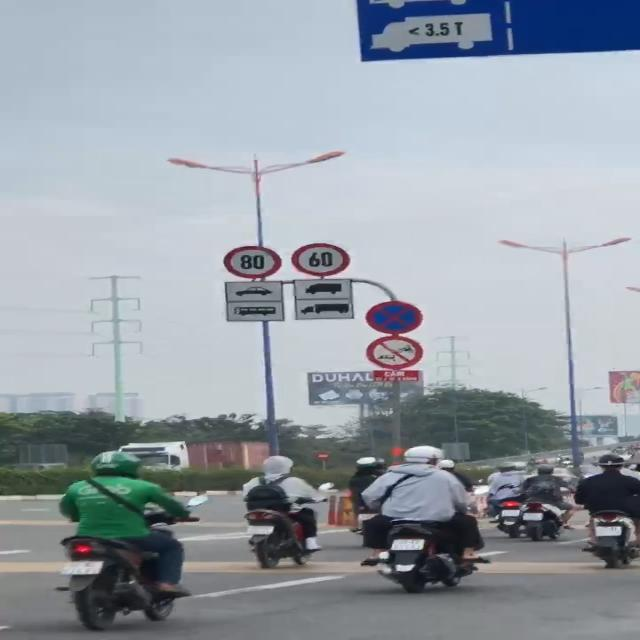Bien bao cam dung xe va do xe: (362, 300, 428, 336)
Bien bao toc do toi da cho phep: (222, 244, 282, 282), (289, 242, 349, 277)
